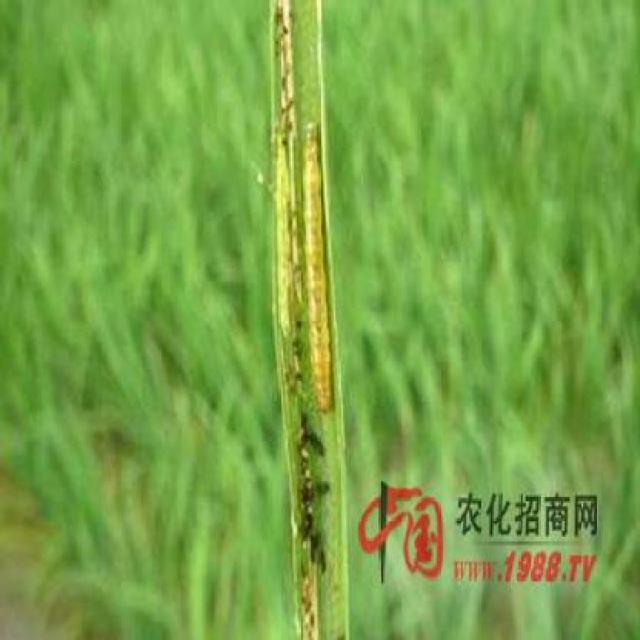leaf-folder: (274, 114, 352, 415)
